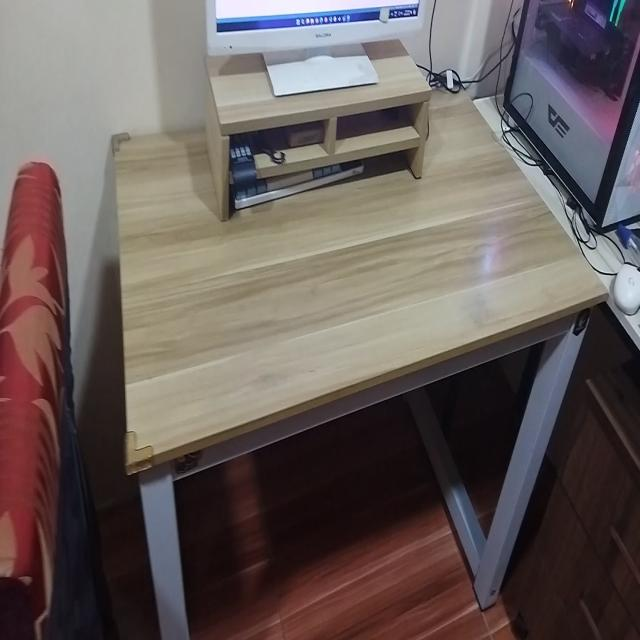table: (109, 113, 578, 640)
